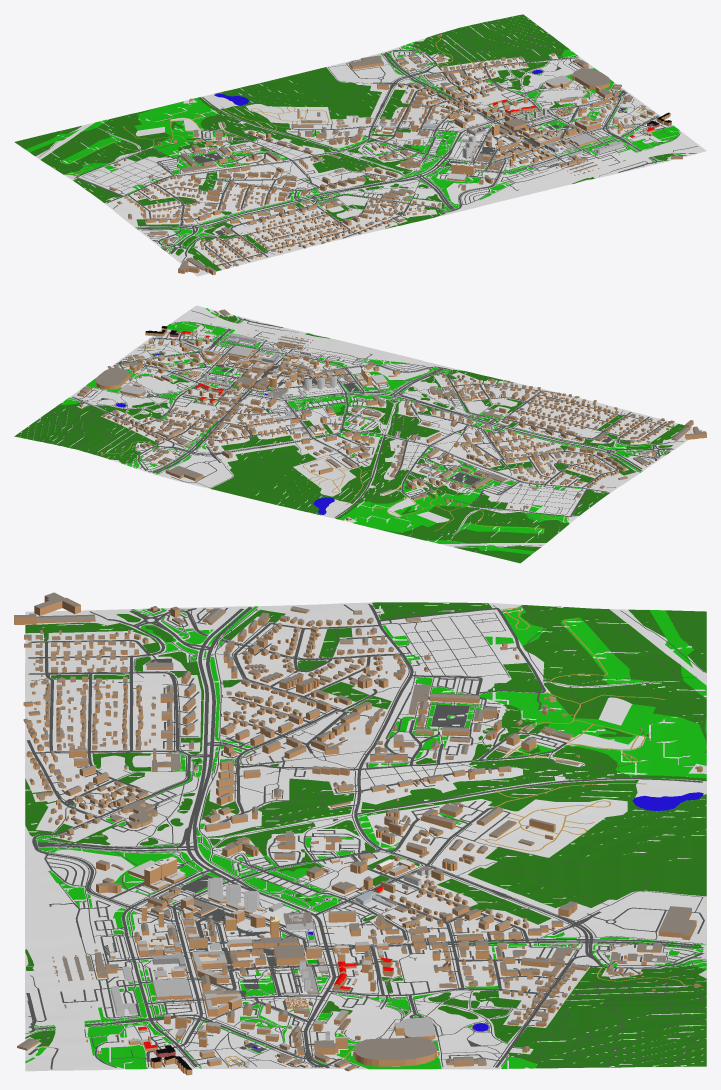
The model's file is Isompialuejaterrain_alla.fbx.
3 views of the same model, one above another, from view 1: azimuth 30°, elevation 25°; view 2: azimuth 150°, elevation 25°; view 3: azimuth 270°, elevation 25° (orthographic). The views are drawn at different scales.
Visible parts, largest first — view 1: Terrain, map_5.osm_buildings, map_5.osm_forest, map_5.osm_vegetation, map_5.osm_paths_footway, map_5.osm_roads_service, map_5.osm_roads_residential, map_5.osm_paths_cycleway, map_5.osm_roads_unclassified, map_5.osm_roads_secondary, map_5.osm_roads_track, map_5.osm_roads_tertiary (+1 smaller); view 2: Terrain, map_5.osm_buildings, map_5.osm_forest, map_5.osm_vegetation, map_5.osm_paths_footway, map_5.osm_roads_service, map_5.osm_roads_residential, map_5.osm_paths_cycleway, map_5.osm_roads_unclassified, map_5.osm_roads_secondary, map_5.osm_roads_track, map_5.osm_areas_pedestrian (+1 smaller); view 3: Terrain, map_5.osm_buildings, map_5.osm_forest, map_5.osm_vegetation, map_5.osm_paths_footway, map_5.osm_roads_residential, map_5.osm_roads_service, map_5.osm_paths_cycleway, map_5.osm_roads_unclassified, map_5.osm_roads_secondary, map_5.osm_roads_track, map_5.osm_roads_tertiary (+2 smaller).
Part boxes in pixels (x1,y1,x2,y2): Terrain: [35, 16, 706, 276]; map_5.osm_buildings: [63, 34, 682, 275]; map_5.osm_forest: [14, 14, 675, 271]; map_5.osm_vegetation: [25, 42, 696, 253]; map_5.osm_paths_footway: [39, 19, 674, 269]; map_5.osm_roads_service: [106, 48, 697, 262]; map_5.osm_roads_residential: [107, 57, 665, 266]; map_5.osm_paths_cycleway: [138, 48, 671, 254]; map_5.osm_roads_unclassified: [75, 50, 686, 248]; map_5.osm_roads_secondary: [137, 52, 626, 253]; map_5.osm_roads_track: [61, 35, 677, 234]; map_5.osm_roads_tertiary: [437, 96, 661, 172]; Terrain: [15, 305, 702, 563]; map_5.osm_buildings: [77, 309, 706, 545]; map_5.osm_forest: [14, 314, 684, 563]; map_5.osm_vegetation: [60, 308, 674, 554]; map_5.osm_paths_footway: [23, 315, 680, 546]; map_5.osm_roads_service: [78, 310, 683, 510]; map_5.osm_roads_residential: [72, 330, 669, 497]; map_5.osm_paths_cycleway: [71, 317, 669, 487]; map_5.osm_roads_unclassified: [118, 311, 661, 517]; map_5.osm_roads_secondary: [116, 361, 672, 473]; map_5.osm_roads_track: [101, 314, 593, 532]; map_5.osm_areas_pedestrian: [216, 364, 481, 484]; Terrain: [25, 602, 706, 1071]; map_5.osm_buildings: [14, 592, 702, 1075]; map_5.osm_forest: [25, 602, 706, 1068]; map_5.osm_vegetation: [25, 605, 706, 1069]; map_5.osm_paths_footway: [30, 604, 704, 1067]; map_5.osm_roads_residential: [27, 605, 601, 1067]; map_5.osm_roads_service: [28, 603, 704, 1069]; map_5.osm_paths_cycleway: [27, 608, 703, 1067]; map_5.osm_roads_unclassified: [26, 608, 703, 1067]; map_5.osm_roads_secondary: [37, 607, 703, 1068]; map_5.osm_roads_track: [37, 606, 702, 1066]; map_5.osm_roads_tertiary: [28, 869, 310, 1066].
Size of the model in its own units: 246702 by 6425 by 150865.
